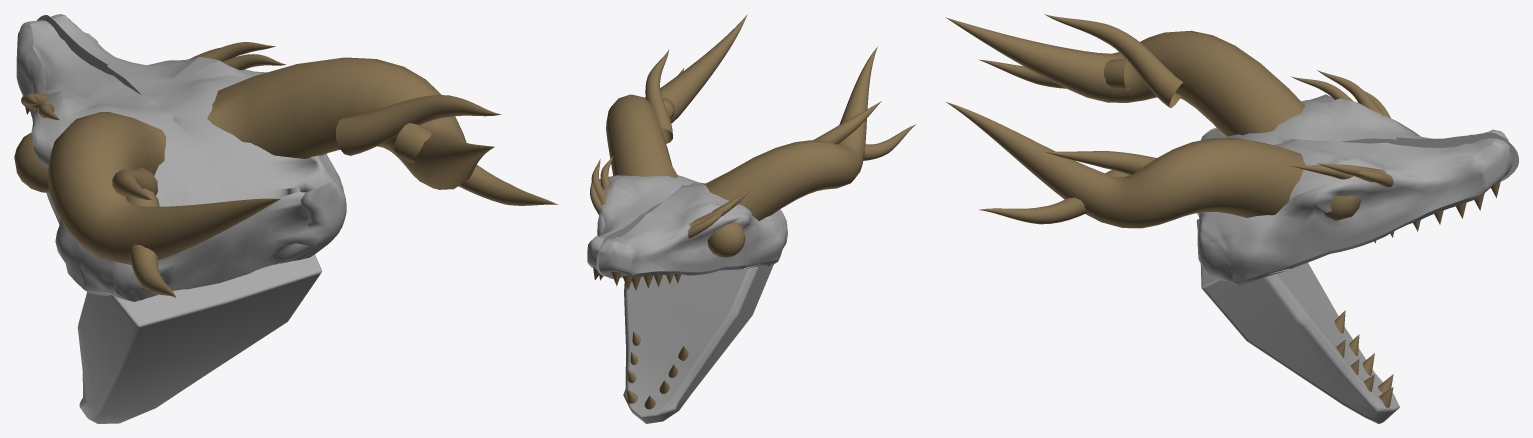
File: StarSerpentHead.fbx
3 renders of one model, left to right at view 1: azimuth 30°, elevation 25°; view 2: azimuth 150°, elevation 25°; view 3: azimuth 270°, elevation 25°, orthographic. The views are drawn at different scales.
Visible parts, largest first — view 1: Head, BezierCurve, Snakejaw, BezierCurve.002, BezierCurve.001, Eyes, BezierCurve.005, BezierCurve.004; view 2: BezierCurve, Head, Snakejaw, BezierCurve.002, Eyes, Cone.007, BezierCurve.001, BezierCurve.005, BezierCurve.006, BezierCurve.004; view 3: BezierCurve, Head, Snakejaw, BezierCurve.002, BezierCurve.001, Cone.007, BezierCurve.005, BezierCurve.004, Eyes, BezierCurve.006.
Boxes of the visible parts, bbox=[...] form: Head: bbox=[16, 14, 346, 301]; BezierCurve: bbox=[47, 57, 494, 264]; Snakejaw: bbox=[77, 254, 321, 423]; BezierCurve.002: bbox=[112, 95, 501, 199]; BezierCurve.001: bbox=[125, 123, 558, 297]; Eyes: bbox=[14, 132, 49, 192]; BezierCurve.005: bbox=[24, 42, 275, 110]; BezierCurve.004: bbox=[38, 54, 285, 120]; BezierCurve: bbox=[606, 14, 877, 220]; Head: bbox=[587, 175, 787, 278]; Snakejaw: bbox=[623, 264, 773, 423]; BezierCurve.002: bbox=[645, 49, 881, 144]; Eyes: bbox=[707, 222, 745, 257]; Cone.007: bbox=[627, 331, 688, 409]; BezierCurve.001: bbox=[662, 68, 915, 160]; BezierCurve.005: bbox=[591, 159, 744, 227]; BezierCurve.006: bbox=[590, 182, 722, 238]; BezierCurve.004: bbox=[600, 156, 750, 215]; BezierCurve: bbox=[945, 17, 1305, 228]; Head: bbox=[1197, 94, 1518, 286]; Snakejaw: bbox=[1196, 219, 1399, 423]; BezierCurve.002: bbox=[1044, 14, 1183, 174]; BezierCurve.001: bbox=[978, 58, 1129, 224]; Cone.007: bbox=[1334, 310, 1393, 407]; BezierCurve.005: bbox=[1317, 70, 1386, 182]; BezierCurve.004: bbox=[1291, 76, 1353, 179]; Eyes: bbox=[1323, 195, 1361, 220]; BezierCurve.006: bbox=[1357, 90, 1393, 187].
Size of the model in its own units: 3.51 by 3.9 by 5.6.
